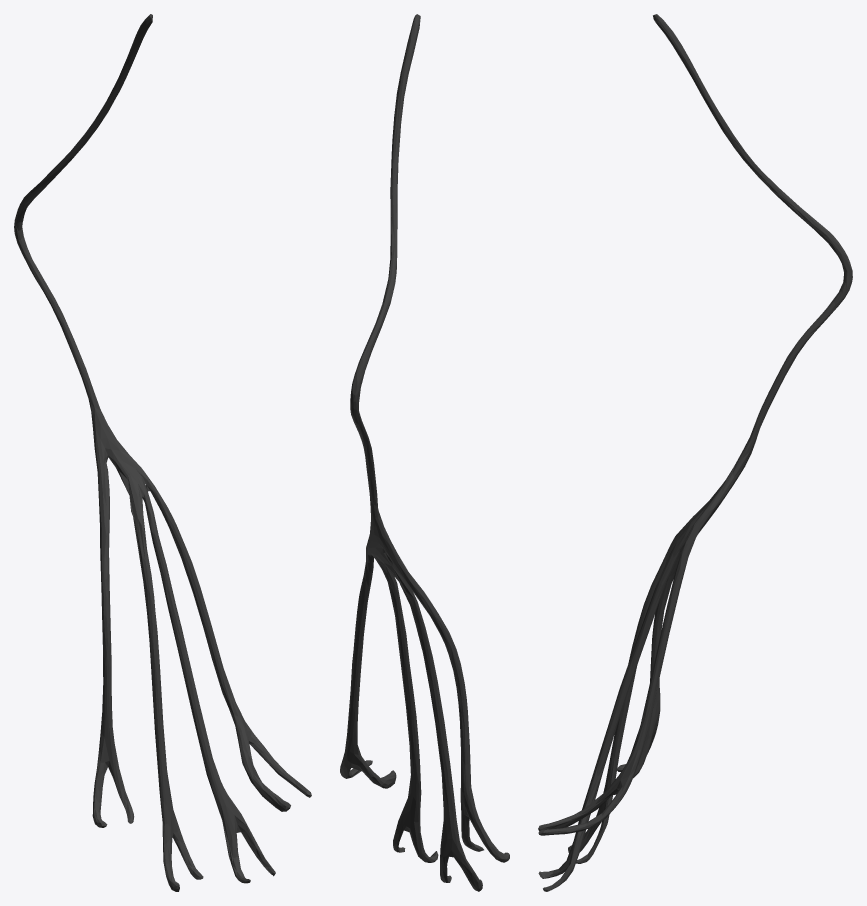
File: SDFtendon.glb
3 renders of one model, left to right at view 1: azimuth 30°, elevation 25°; view 2: azimuth 150°, elevation 25°; view 3: azimuth 270°, elevation 25°, orthographic. The views are drawn at different scales.
Visible parts, largest first — view 1: SDFtendon; view 2: SDFtendon; view 3: SDFtendon.
Boxes of the visible parts, x1=… form: SDFtendon: x1=14, y1=14, x2=311, y2=891; SDFtendon: x1=340, y1=14, x2=509, y2=891; SDFtendon: x1=538, y1=14, x2=852, y2=891.
Bounding box in the file's own units: 0.022 × 0.1021 × 0.0343.
Materials: 1 (1 with a texture image).
